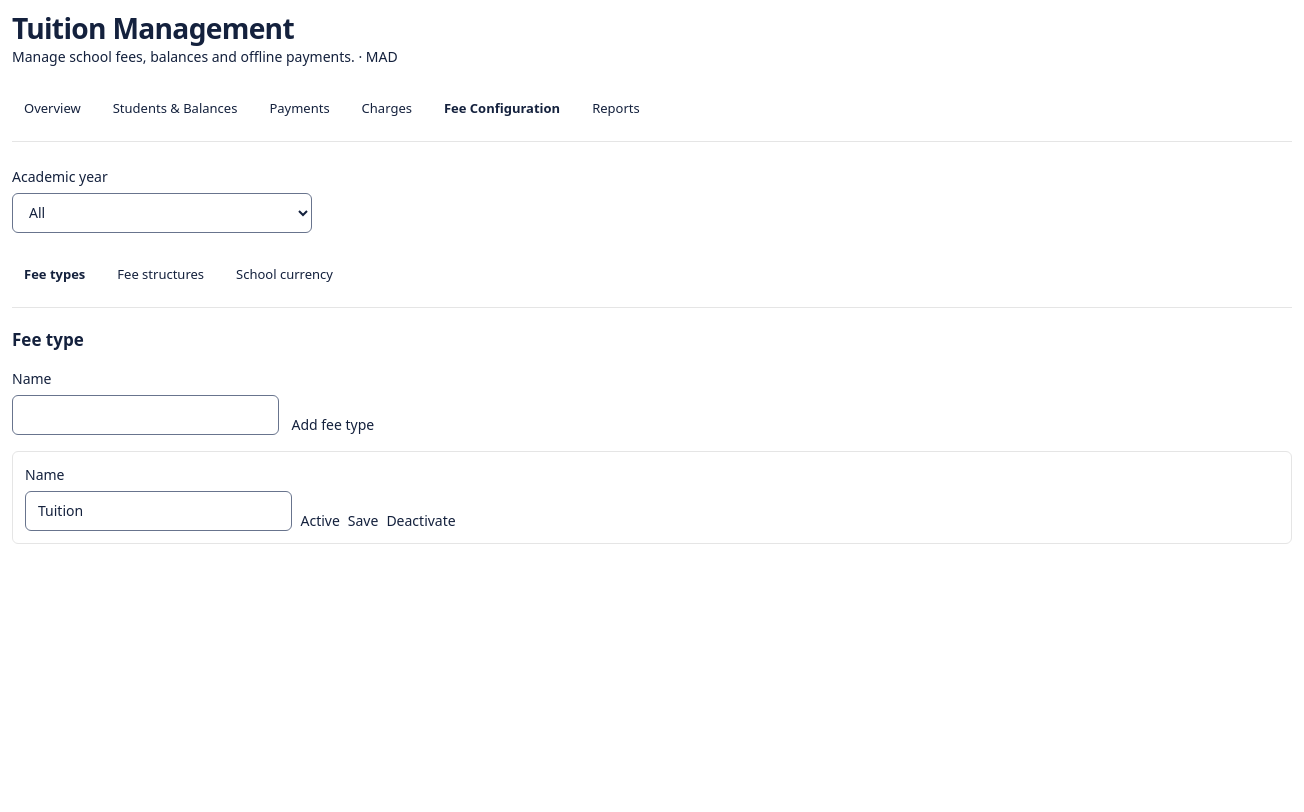
does not carry the configuration year restriction into report Class options
Select "2025/26" in the dropdown labelled "Academic year" at x=162, y=213, box [12,193,312,233]
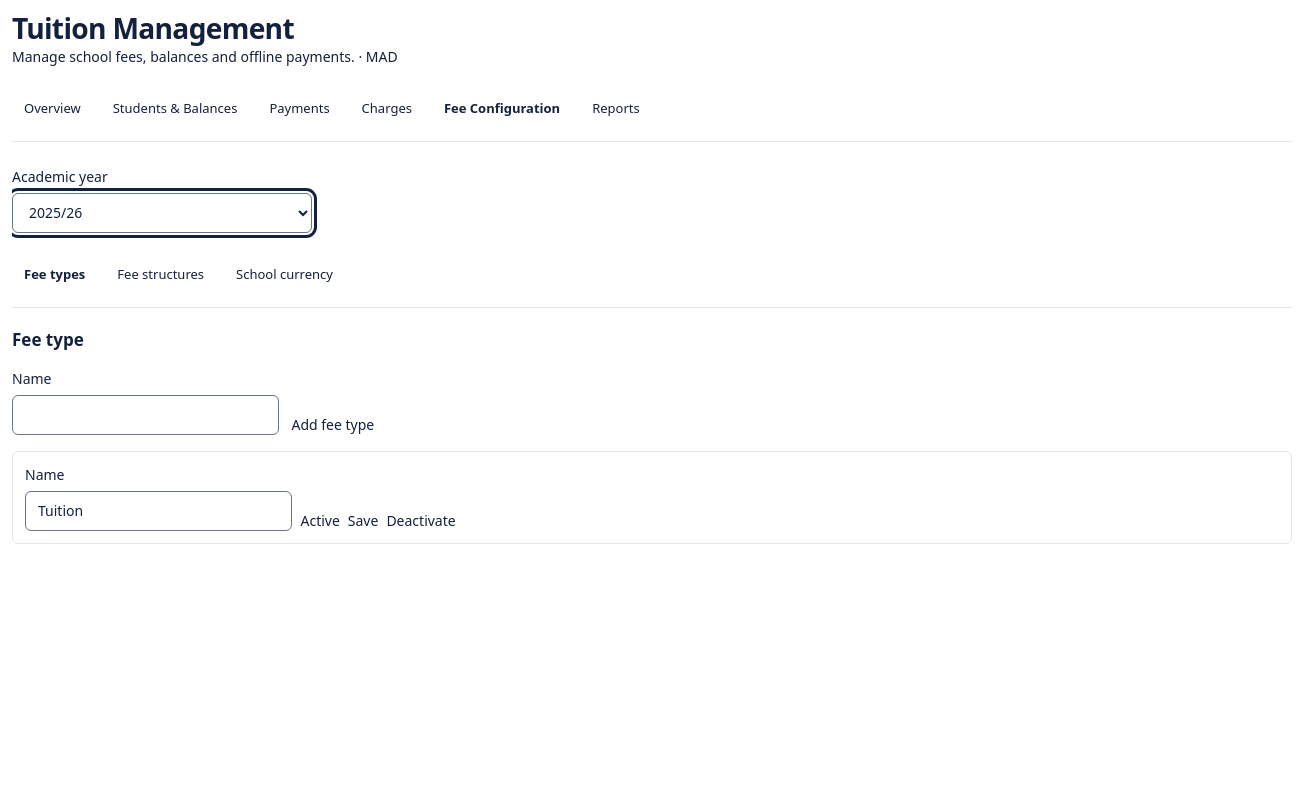
Click the button "Reports" at x=616, y=112, box [580,91,652,133]
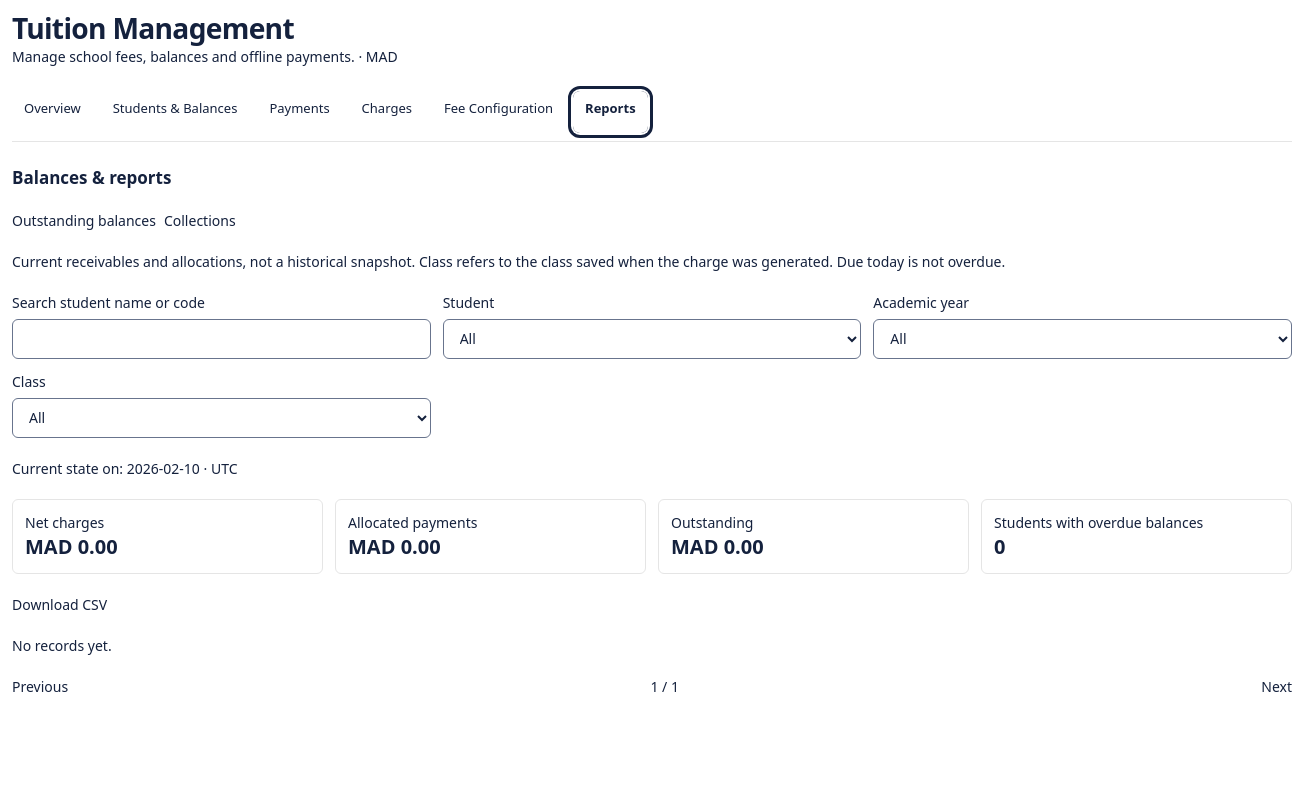
Now the dropdown labelled "Class" shows "All", box [12,398,431,438]
Now the dropdown labelled "Academic year" shows "All", box [873,319,1292,359]
